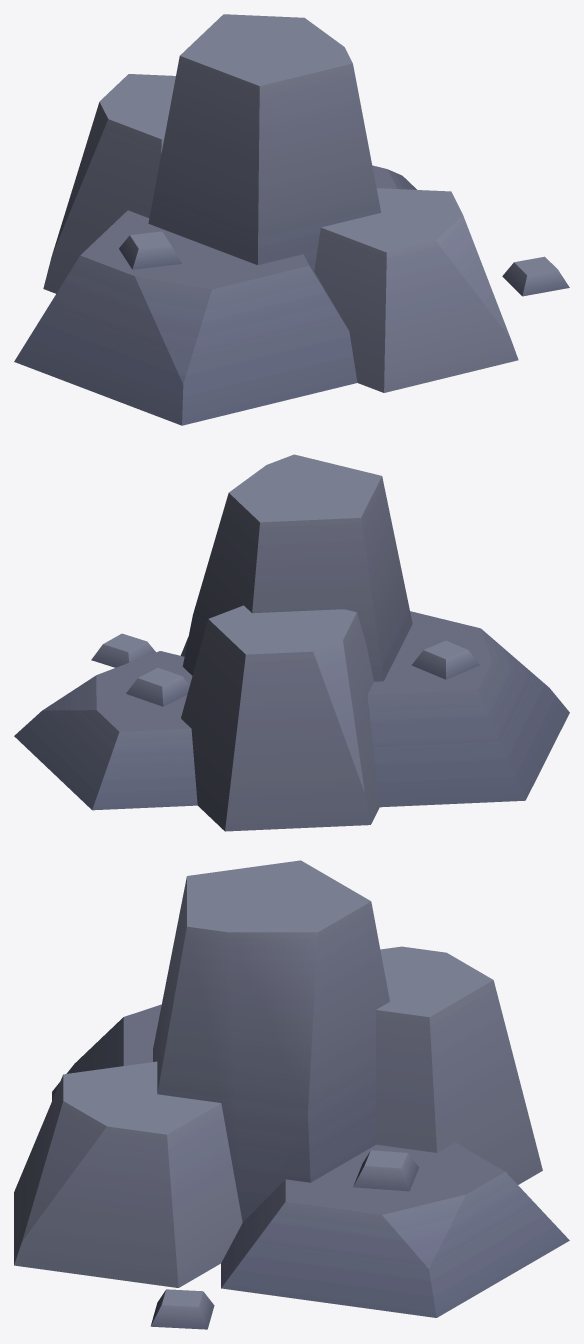
File: rock-b.glb
The picture shows the model from 3 angles, top to bottom: view 1: azimuth 30°, elevation 25°; view 2: azimuth 150°, elevation 25°; view 3: azimuth 270°, elevation 25°; orthographic projection. The views are drawn at different scales.
Parts seen in each view (by area): view 1: rock-b; view 2: rock-b; view 3: rock-b.
Boxes of the visible parts, x1=… form: rock-b: x1=14, y1=14, x2=569, y2=425; rock-b: x1=14, y1=454, x2=569, y2=831; rock-b: x1=14, y1=860, x2=569, y2=1329.
Bounding box in the file's own units: 0.8346 × 0.4186 × 0.7247.
Materials: 1 (1 with a texture image).
